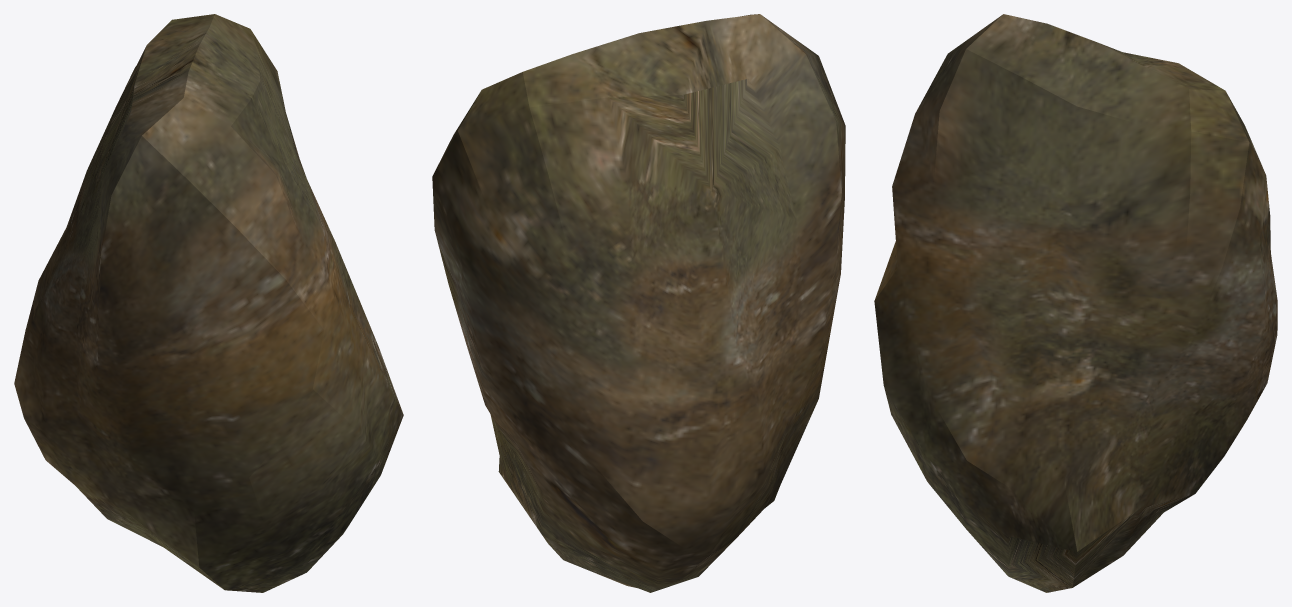
The model's file is rock.gltf.
The picture shows the model from 3 angles, left to right: view 1: azimuth 30°, elevation 25°; view 2: azimuth 150°, elevation 25°; view 3: azimuth 270°, elevation 25°; orthographic projection. The views are drawn at different scales.
Visible parts, largest first — view 1: rock.003; view 2: rock.003; view 3: rock.003.
Boxes of the visible parts, box(x1,y1,x2,y2) form: rock.003: box(14, 14, 403, 592); rock.003: box(432, 14, 845, 592); rock.003: box(874, 14, 1277, 592).
Bounding box in the file's own units: 0.5808 × 1.02 × 0.7014.
